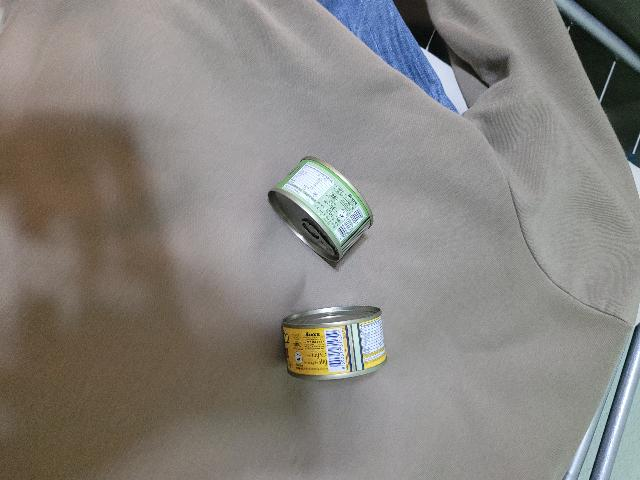Metal: (257, 149, 382, 268), (265, 301, 403, 382)
